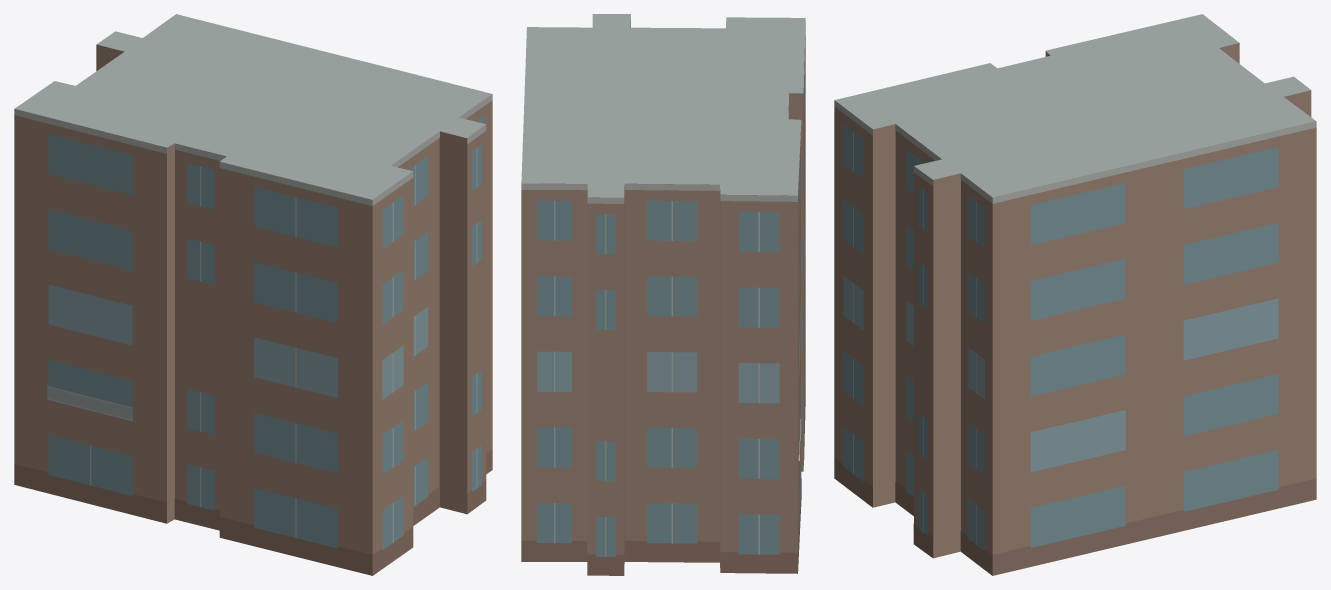
Rendered from survey-upis-33010749.glb.
3 views of the same model, side by side, from view 1: azimuth 30°, elevation 25°; view 2: azimuth 150°, elevation 25°; view 3: azimuth 270°, elevation 25° (orthographic).
Parts seen in each view (by area): view 1: survey-upis-33010749.tmp; view 2: survey-upis-33010749.tmp; view 3: survey-upis-33010749.tmp.
Boxes of the visible parts, left/top/right/bottom form: survey-upis-33010749.tmp: left=14, top=14, right=492, bottom=575; survey-upis-33010749.tmp: left=521, top=14, right=805, bottom=575; survey-upis-33010749.tmp: left=834, top=14, right=1316, bottom=575.
Size of the model in its own units: 15.2 by 14.6 by 16.87.
